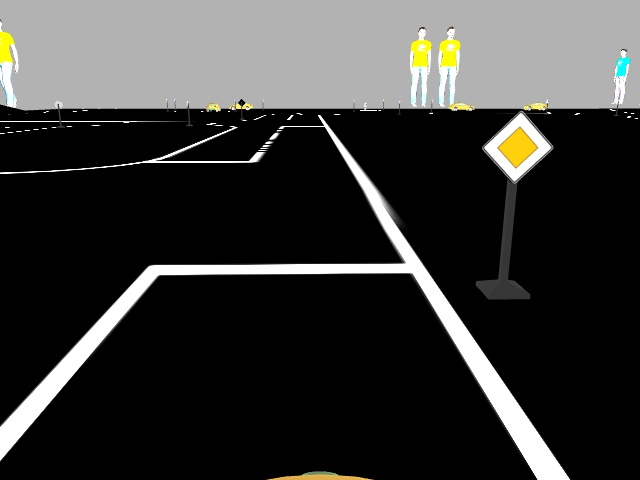Priority: (487, 108, 548, 176)
